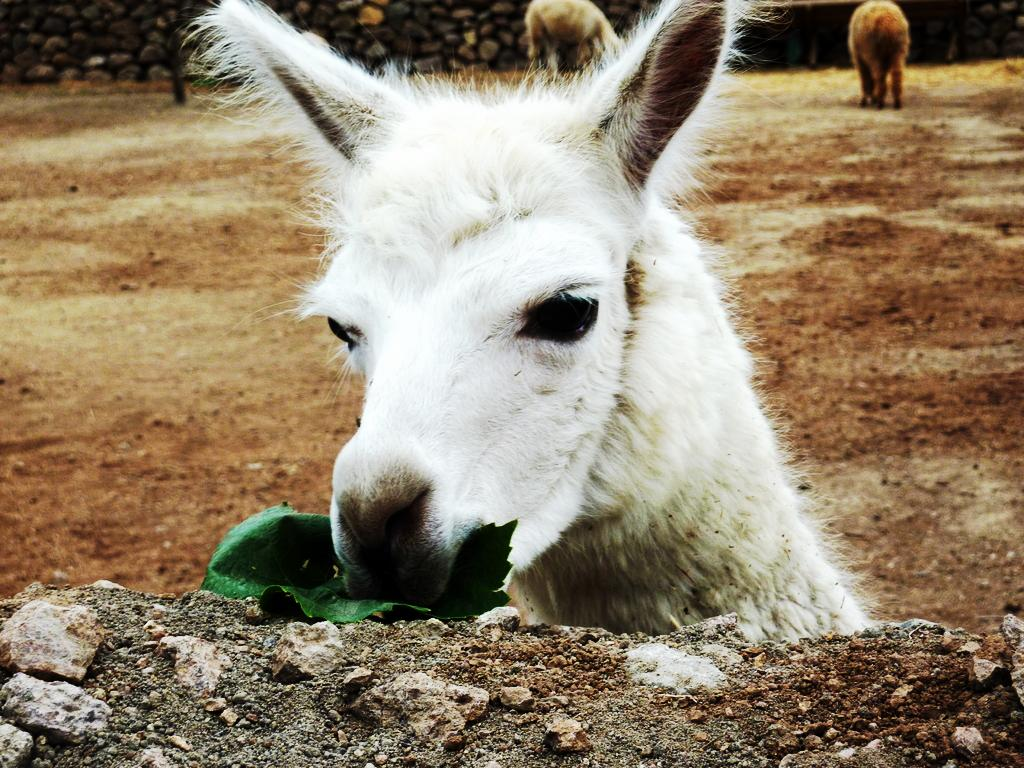Sheep: (178, 0, 868, 619), (520, 0, 632, 88), (844, 0, 914, 107)
